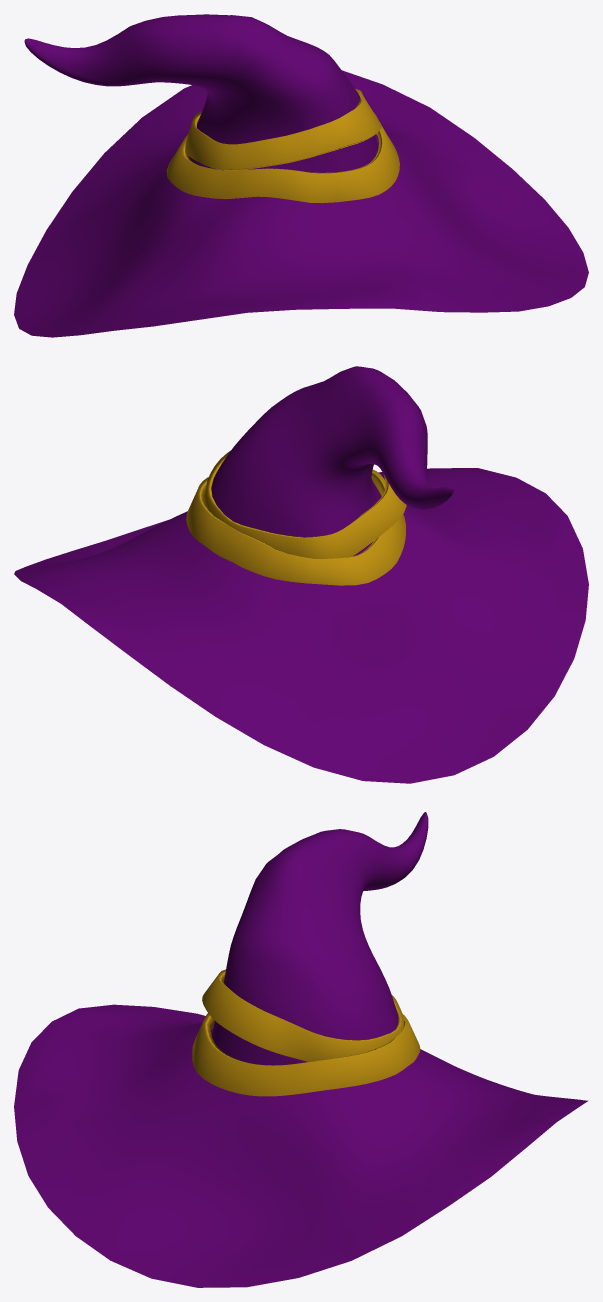
Rendered from witch_hat.fbx.
The picture shows the model from 3 angles, top to bottom: view 1: azimuth 30°, elevation 25°; view 2: azimuth 150°, elevation 25°; view 3: azimuth 270°, elevation 25°; orthographic projection. The views are drawn at different scales.
Visible parts, largest first — view 1: PM3D_Cylinder3D_6, PM3D_Cylinder3D_8, witch_hat, PM3D_Cylinder3D_9; view 2: PM3D_Cylinder3D_6, PM3D_Cylinder3D_8, witch_hat, PM3D_Cylinder3D_9; view 3: PM3D_Cylinder3D_6, PM3D_Cylinder3D_8, witch_hat, PM3D_Cylinder3D_9.
Part boxes in pixels (left/top/right/bottom): PM3D_Cylinder3D_6: left=14, top=70, right=588, bottom=337; PM3D_Cylinder3D_8: left=24, top=14, right=378, bottom=172; witch_hat: left=166, top=113, right=399, bottom=203; PM3D_Cylinder3D_9: left=185, top=88, right=381, bottom=170; PM3D_Cylinder3D_6: left=14, top=468, right=588, bottom=783; PM3D_Cylinder3D_8: left=211, top=366, right=453, bottom=556; witch_hat: left=186, top=469, right=405, bottom=585; PM3D_Cylinder3D_9: left=204, top=450, right=406, bottom=558; PM3D_Cylinder3D_6: left=14, top=1004, right=587, bottom=1287; PM3D_Cylinder3D_8: left=211, top=812, right=428, bottom=1065; witch_hat: left=192, top=1013, right=420, bottom=1096; PM3D_Cylinder3D_9: left=202, top=969, right=403, bottom=1061.
Size of the model in its own units: 3.44 by 2.06 by 3.35.
